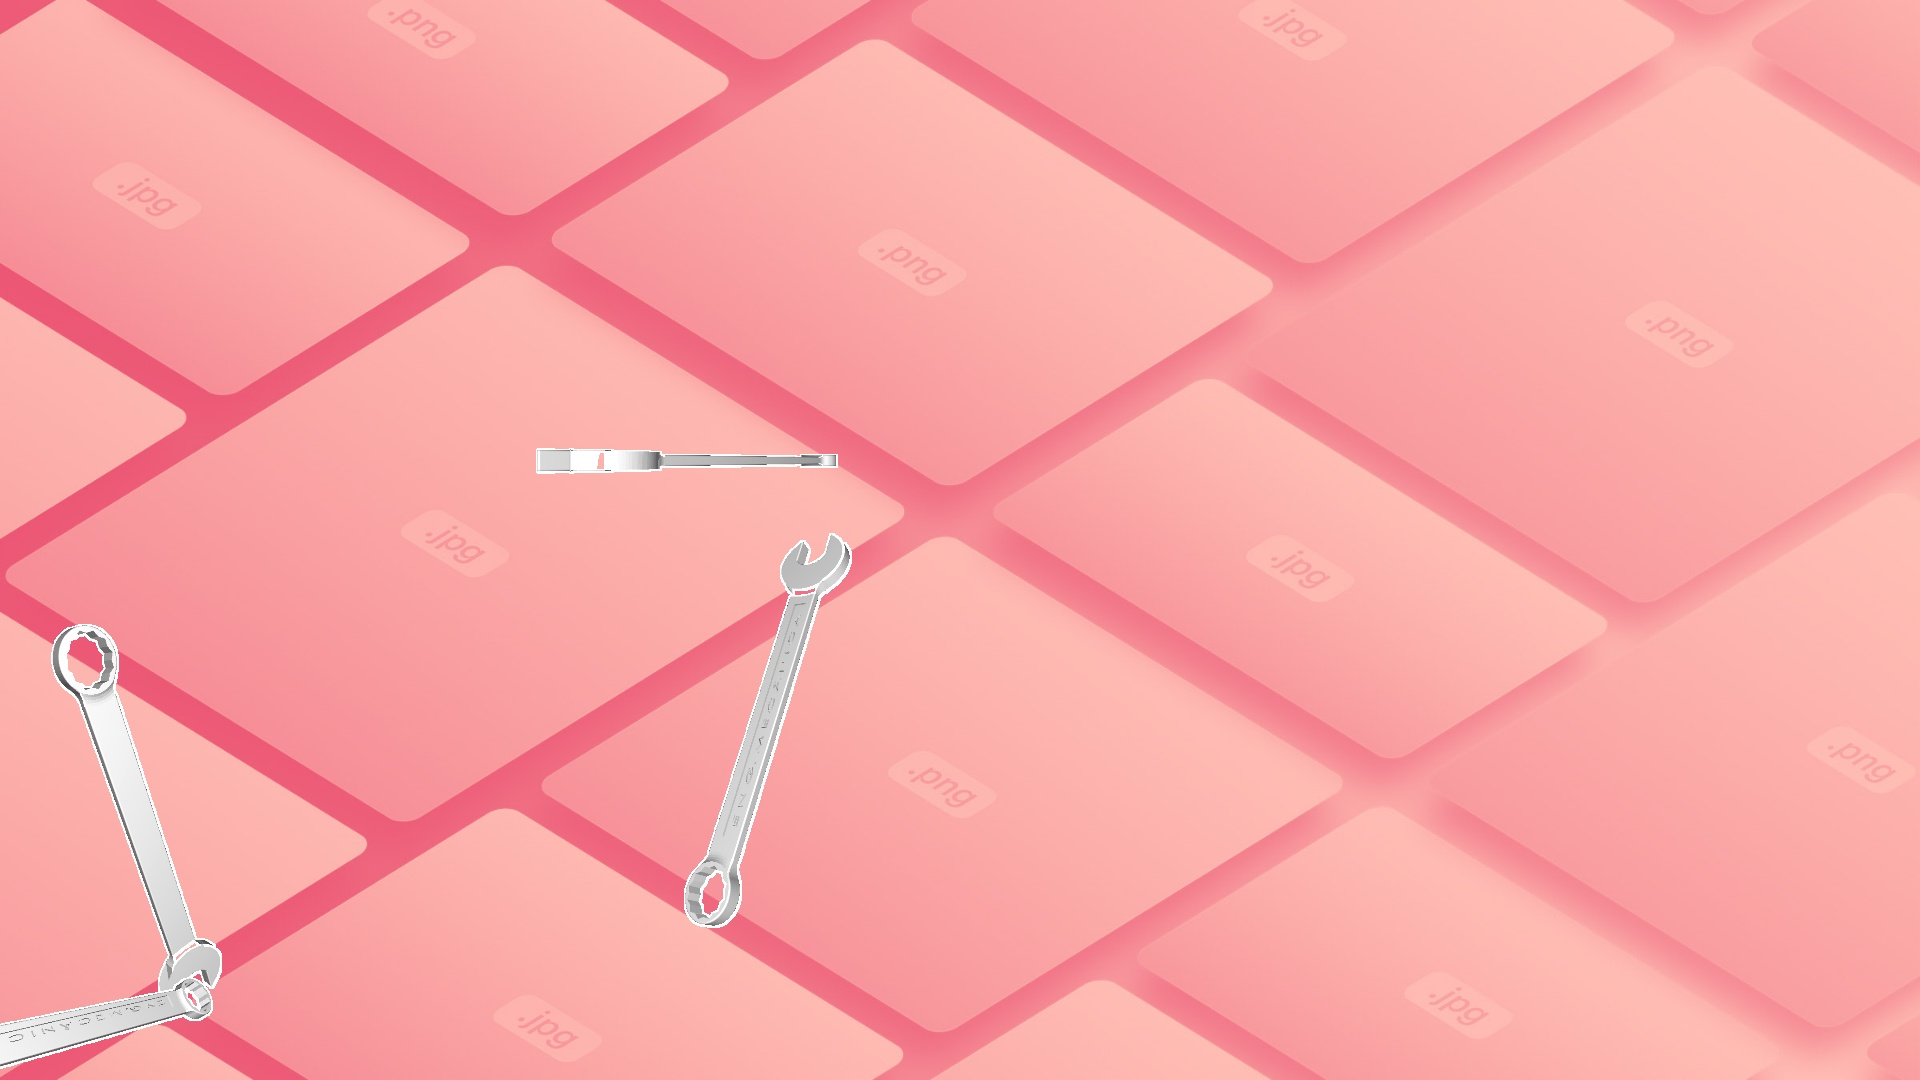Mixed Key: (684, 533, 851, 927), (51, 624, 222, 992), (0, 977, 212, 1068), (535, 448, 837, 473)
